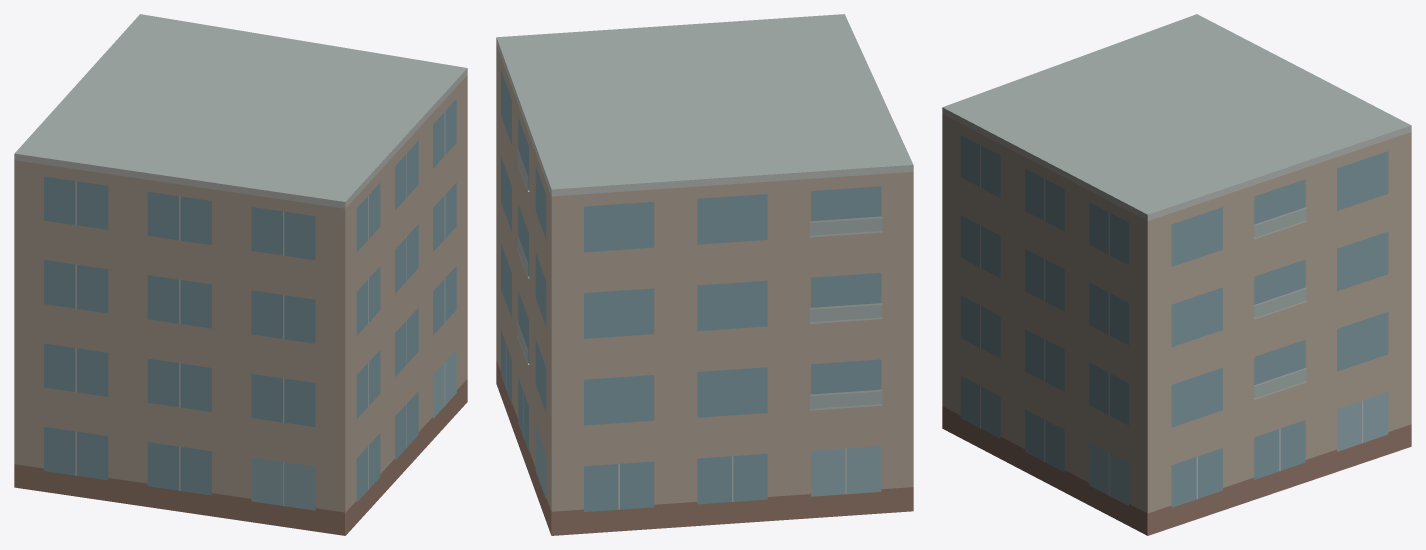
The model's file is survey-upis-32929311.glb.
The picture shows the model from 3 angles, left to right: view 1: azimuth 30°, elevation 25°; view 2: azimuth 150°, elevation 25°; view 3: azimuth 270°, elevation 25°; orthographic projection. The views are drawn at different scales.
Visible parts, largest first — view 1: survey-upis-32929311.tmp; view 2: survey-upis-32929311.tmp; view 3: survey-upis-32929311.tmp.
Part boxes in pixels (x1,y1,x2,y2): survey-upis-32929311.tmp: [14, 14, 467, 535]; survey-upis-32929311.tmp: [496, 14, 913, 535]; survey-upis-32929311.tmp: [942, 14, 1411, 535].
Size of the model in its own units: 16.36 by 12.2 by 16.17.
